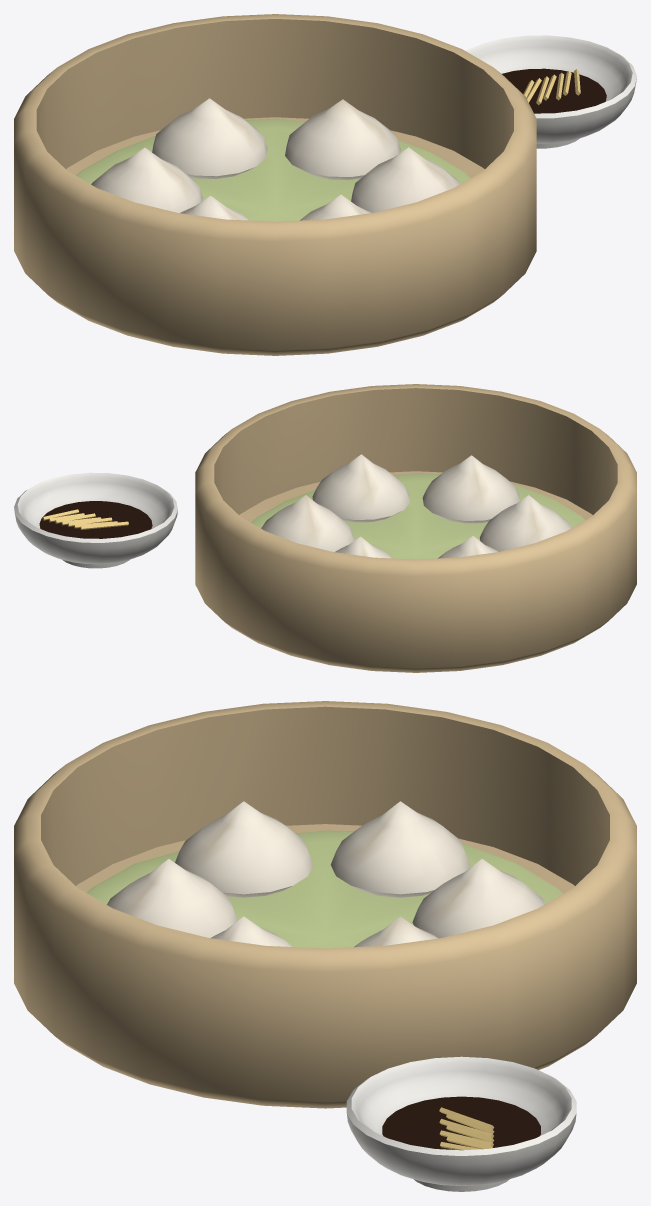
Rendered from dish-xiaolongbao-lod1.glb.
3 views of the same model, one above another, from view 1: azimuth 30°, elevation 25°; view 2: azimuth 150°, elevation 25°; view 3: azimuth 270°, elevation 25° (orthographic). The views are drawn at different scales.
Parts seen in each view (by area): view 1: xiaolongbao.lod1__steamer bamboo, xiaolongbao.lod1__food glaze, xiaolongbao.lod1__food, xiaolongbao.lod1__table porcelain; view 2: xiaolongbao.lod1__steamer bamboo, xiaolongbao.lod1__food glaze, xiaolongbao.lod1__table porcelain, xiaolongbao.lod1__food; view 3: xiaolongbao.lod1__steamer bamboo, xiaolongbao.lod1__food glaze, xiaolongbao.lod1__table porcelain, xiaolongbao.lod1__food.
Boxes of the visible parts, <box> form: xiaolongbao.lod1__steamer bamboo: <box>14,14,536,355</box>; xiaolongbao.lod1__food glaze: <box>91,68,606,220</box>; xiaolongbao.lod1__food: <box>76,69,580,221</box>; xiaolongbao.lod1__table porcelain: <box>466,35,636,148</box>; xiaolongbao.lod1__steamer bamboo: <box>195,384,636,672</box>; xiaolongbao.lod1__food glaze: <box>39,454,572,558</box>; xiaolongbao.lod1__table porcelain: <box>14,472,177,568</box>; xiaolongbao.lod1__food: <box>42,473,584,559</box>; xiaolongbao.lod1__steamer bamboo: <box>14,701,636,1108</box>; xiaolongbao.lod1__food glaze: <box>107,801,544,1149</box>; xiaolongbao.lod1__table porcelain: <box>346,1056,576,1191</box>; xiaolongbao.lod1__food: <box>86,830,562,1150</box>.
Size of the model in its own units: 0.256 by 0.05 by 0.183.
